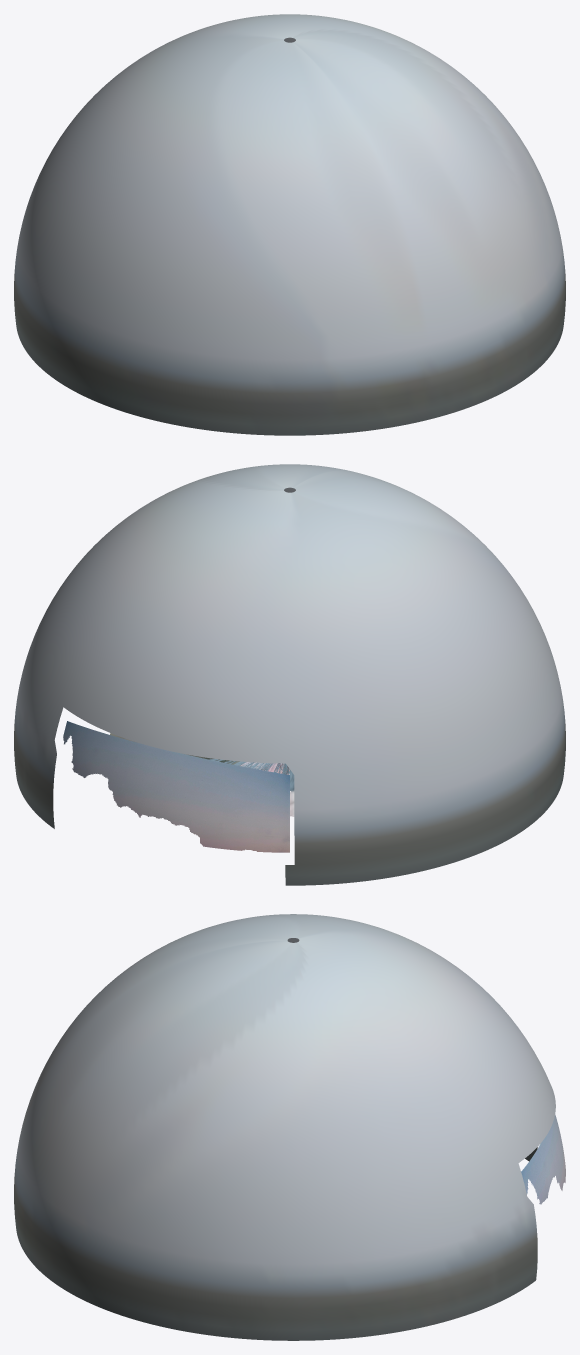
The model's file is world-v3-alpine.glb.
3 views of the same model, one above another, from view 1: azimuth 30°, elevation 25°; view 2: azimuth 150°, elevation 25°; view 3: azimuth 270°, elevation 25° (orthographic).
Parts seen in each view (by area): view 1: backdrop; view 2: backdrop, skycap, far; view 3: backdrop, skycap.
Boxes of the visible parts, x1=… form: backdrop: x1=14, y1=14, x2=565, y2=435; backdrop: x1=14, y1=464, x2=565, y2=885; skycap: x1=63, y1=721, x2=289, y2=852; far: x1=110, y1=733, x2=294, y2=816; backdrop: x1=14, y1=914, x2=555, y2=1340; skycap: x1=521, y1=1114, x2=565, y2=1204.
Bounding box in the file's own units: 1840 × 1028 × 1817.
1 material, 1 textured.
